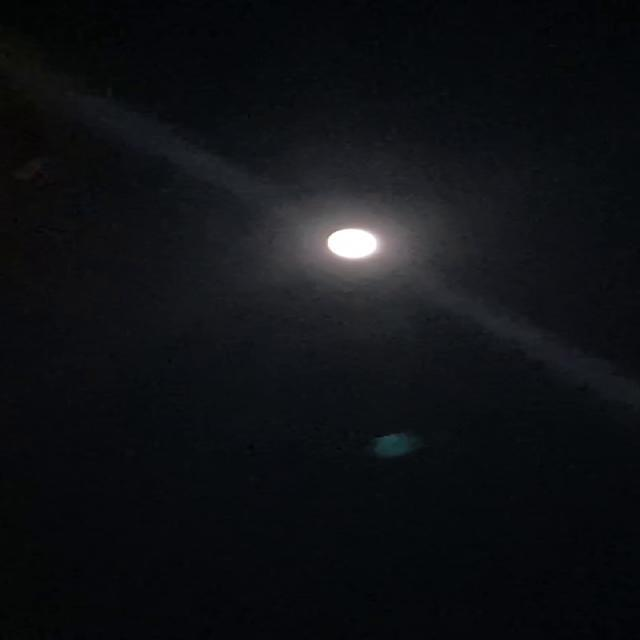moon: (292, 216, 396, 266)
